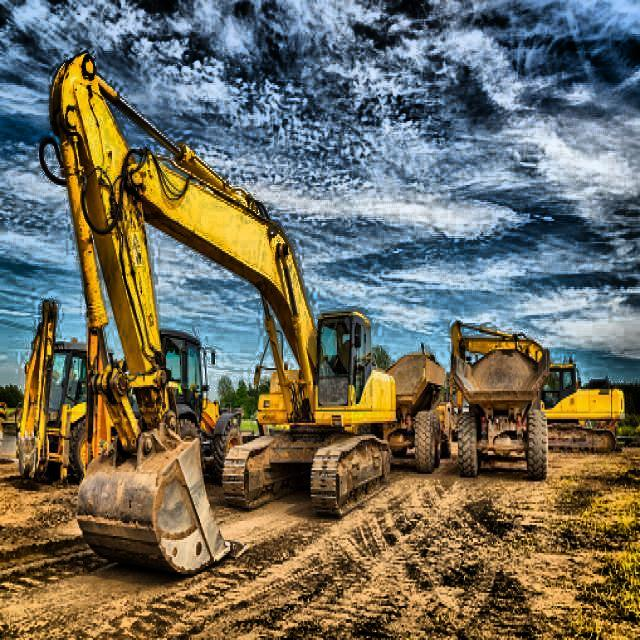excavator: (39, 54, 398, 582)
